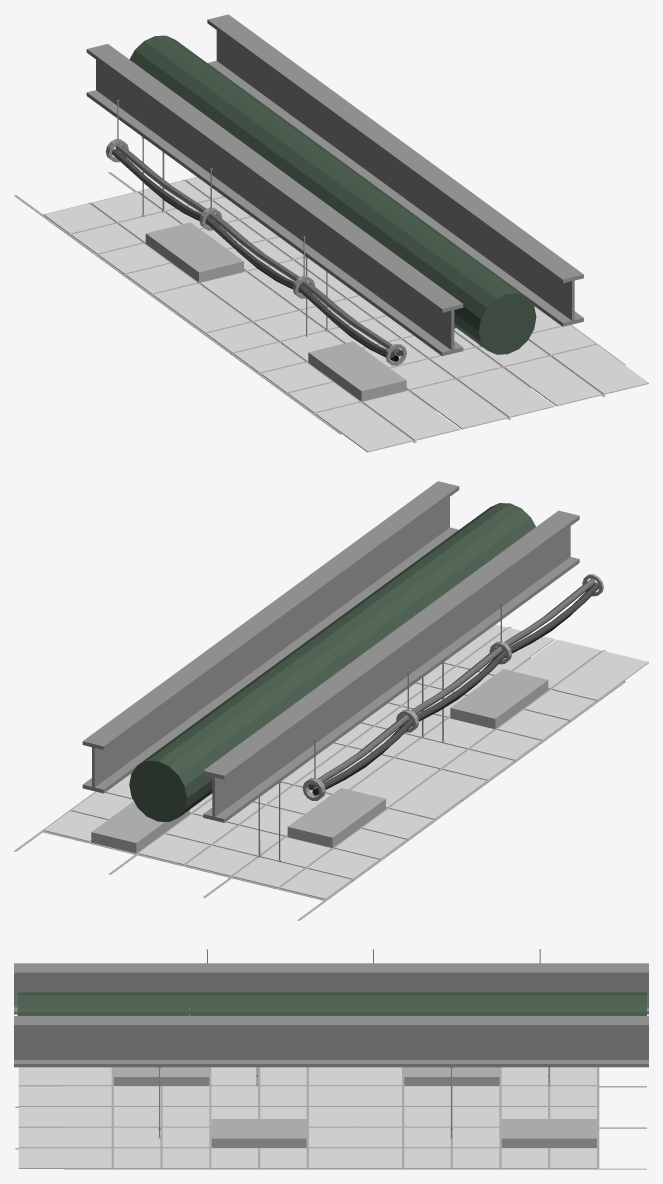
File: shortHallwayIntact.fbx
3 views of the same model, one above another, from view 1: azimuth 30°, elevation 25°; view 2: azimuth 150°, elevation 25°; view 3: azimuth 270°, elevation 25° (orthographic). The views are drawn at different scales.
Parts seen in each view (by area): view 1: Plane.054; view 2: Plane.054; view 3: Plane.054.
Part boxes in pixels (box(x1,y1,x2,y2)): Plane.054: box(14, 14, 648, 452); Plane.054: box(14, 481, 648, 920); Plane.054: box(14, 949, 648, 1169).
Size of the model in its own units: 1269 by 546 by 2735.
